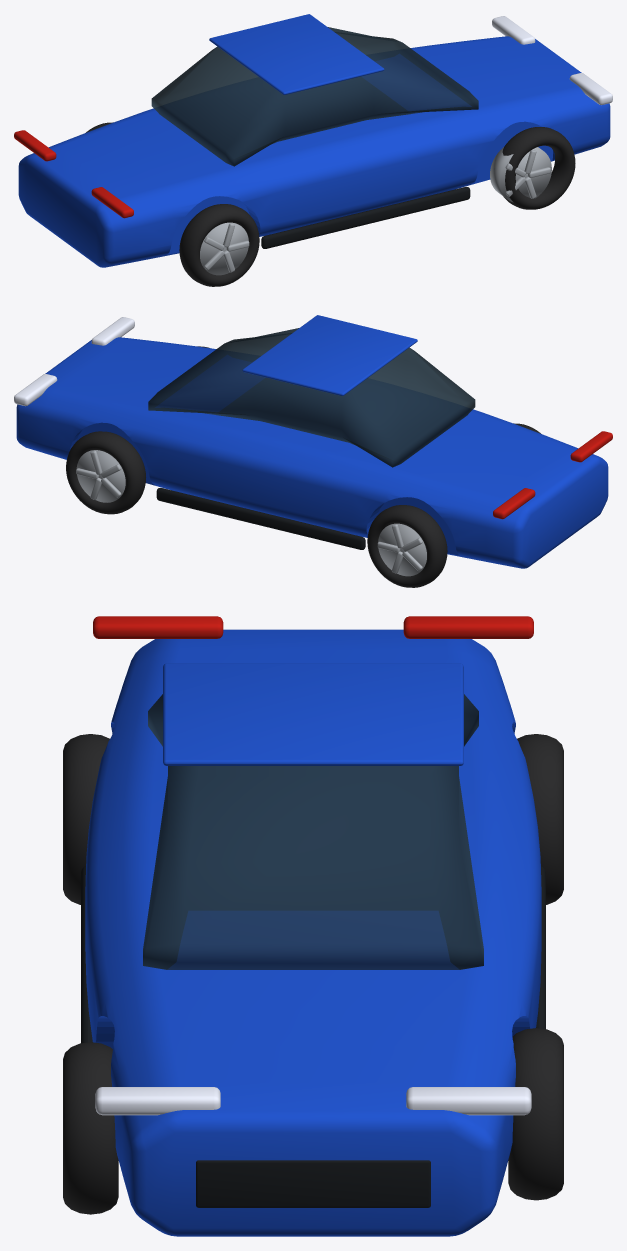
File: vehicle.glb
3 renders of one model, top to bottom at view 1: azimuth 30°, elevation 25°; view 2: azimuth 150°, elevation 25°; view 3: azimuth 270°, elevation 25°, orthographic. The views are drawn at different scales.
Visible parts, largest first — view 1: chassis, cabin_glass, roof, wheel_rear_left, wheel_front_left, side_sill_-1, wheel_front_left_rim, wheel_rear_left_rim, front_lamp_-1, front_lamp_1, rear_lamp_1, rear_lamp_-1; view 2: chassis, cabin_glass, roof, wheel_rear_right, wheel_front_right, side_sill_1, wheel_front_right_rim, wheel_rear_right_rim, front_lamp_1, front_lamp_-1, rear_lamp_-1, rear_lamp_1; view 3: chassis, cabin_glass, roof, front_grille, wheel_front_left, wheel_front_right, wheel_rear_left, wheel_rear_right, front_lamp_-1, front_lamp_1, rear_lamp_-1, rear_lamp_1 (+2 smaller).
Part boxes in pixels (x1,y1,x2,y2): chassis: [18, 36, 610, 267]; cabin_glass: [151, 27, 478, 166]; roof: [209, 14, 384, 94]; wheel_rear_left: [179, 204, 259, 286]; wheel_front_left: [502, 127, 575, 209]; side_sill_-1: [261, 187, 470, 248]; wheel_front_left_rim: [490, 147, 551, 202]; wheel_rear_left_rim: [200, 222, 248, 275]; front_lamp_-1: [569, 73, 612, 105]; front_lamp_1: [492, 16, 535, 44]; rear_lamp_1: [14, 130, 56, 161]; rear_lamp_-1: [91, 187, 133, 218]; chassis: [16, 337, 608, 568]; cabin_glass: [148, 328, 475, 467]; roof: [242, 315, 417, 395]; wheel_rear_right: [367, 505, 447, 587]; wheel_front_right: [66, 431, 145, 514]; side_sill_1: [156, 488, 365, 549]; wheel_front_right_rim: [76, 450, 125, 502]; wheel_rear_right_rim: [378, 523, 426, 576]; front_lamp_1: [14, 374, 57, 406]; front_lamp_-1: [91, 317, 134, 345]; rear_lamp_-1: [570, 431, 612, 462]; rear_lamp_1: [493, 488, 535, 519]; chassis: [85, 629, 541, 1236]; cabin_glass: [143, 694, 483, 969]; roof: [163, 663, 463, 765]; front_grille: [196, 1160, 430, 1207]; wheel_front_left: [63, 1042, 118, 1214]; wheel_front_right: [508, 1028, 563, 1200]; wheel_rear_left: [63, 734, 109, 904]; wheel_rear_right: [517, 734, 563, 904]; front_lamp_-1: [95, 1087, 220, 1115]; front_lamp_1: [406, 1087, 531, 1115]; rear_lamp_-1: [93, 616, 223, 638]; rear_lamp_1: [403, 616, 533, 638].
Bounding box in the file's own units: 4.21 × 1.25 × 1.8.
